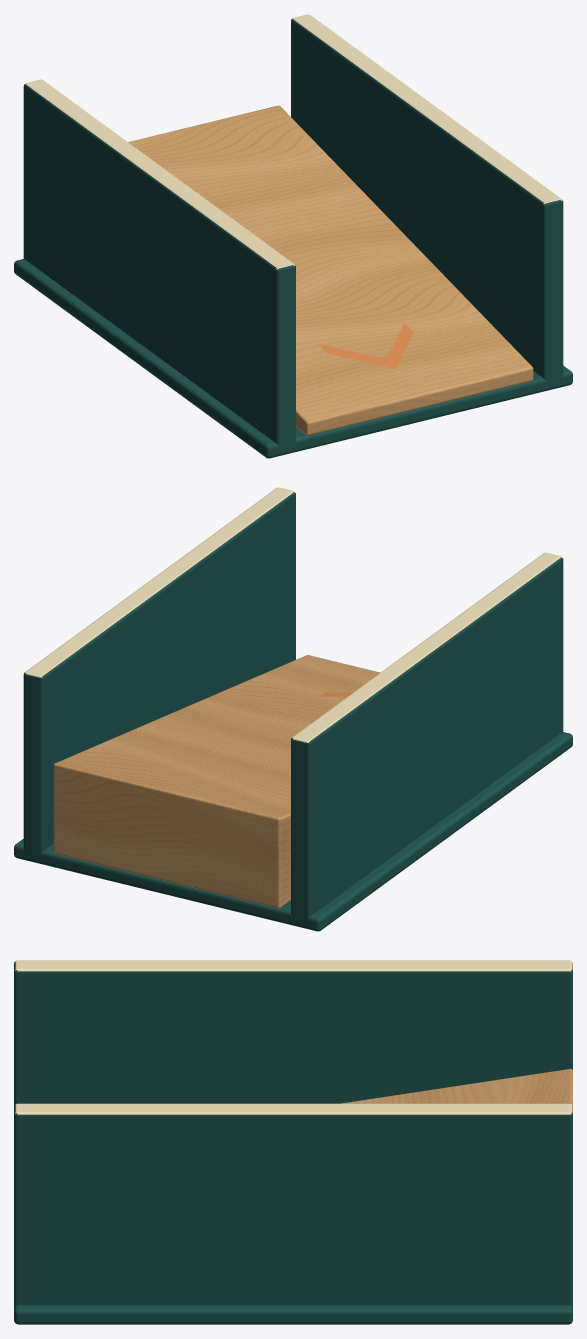
The model's file is holderBase.glb.
3 views of the same model, one above another, from view 1: azimuth 30°, elevation 25°; view 2: azimuth 150°, elevation 25°; view 3: azimuth 270°, elevation 25° (orthographic). The views are drawn at different scales.
Parts seen in each view (by area): view 1: holderBase; view 2: holderBase; view 3: holderBase.
Part boxes in pixels (x1,y1,x2,y2): holderBase: (14, 14, 572, 458); holderBase: (14, 487, 572, 931); holderBase: (14, 960, 572, 1324).
Bounding box in the file's own units: 0.046 × 0.027 × 0.066.
4 materials, 1 textured.
